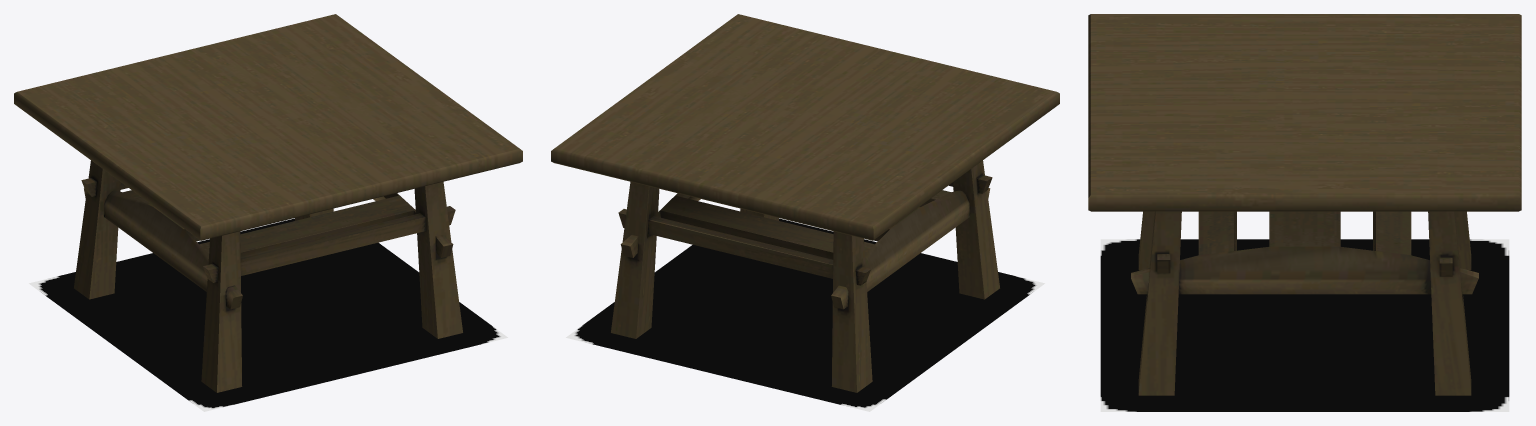
The model's file is jj_rixi_zhuozi02.FBX.
3 renders of one model, left to right at view 1: azimuth 30°, elevation 25°; view 2: azimuth 150°, elevation 25°; view 3: azimuth 270°, elevation 25°, orthographic. The views are drawn at different scales.
Parts seen in each view (by area): view 1: jj_rixi_zhuozi02, shadow; view 2: jj_rixi_zhuozi02, shadow; view 3: jj_rixi_zhuozi02, shadow.
Part boxes in pixels (x1,y1,x2,y2): jj_rixi_zhuozi02: (14, 14, 522, 392); shadow: (29, 210, 507, 411); jj_rixi_zhuozi02: (551, 14, 1059, 392); shadow: (566, 210, 1044, 411); jj_rixi_zhuozi02: (1088, 14, 1521, 395); shadow: (1100, 239, 1509, 411).
Bounding box in the file's own units: 168 × 96.26 × 168.
